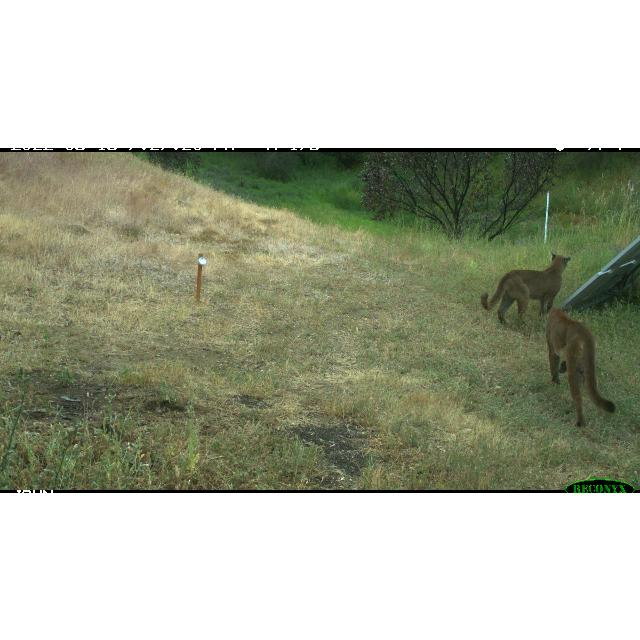animals: (545, 302, 615, 428), (482, 252, 572, 324)
